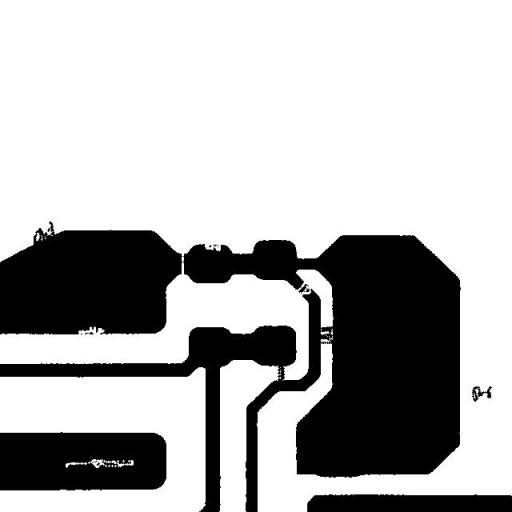copper: (464, 378, 499, 409)
mousebite: (70, 318, 112, 346), (197, 232, 228, 258)
open: (280, 273, 318, 309), (173, 234, 191, 287)
pin-hole: (58, 451, 140, 475)
short: (306, 318, 346, 352), (270, 348, 292, 393)
spur: (26, 214, 63, 258)
